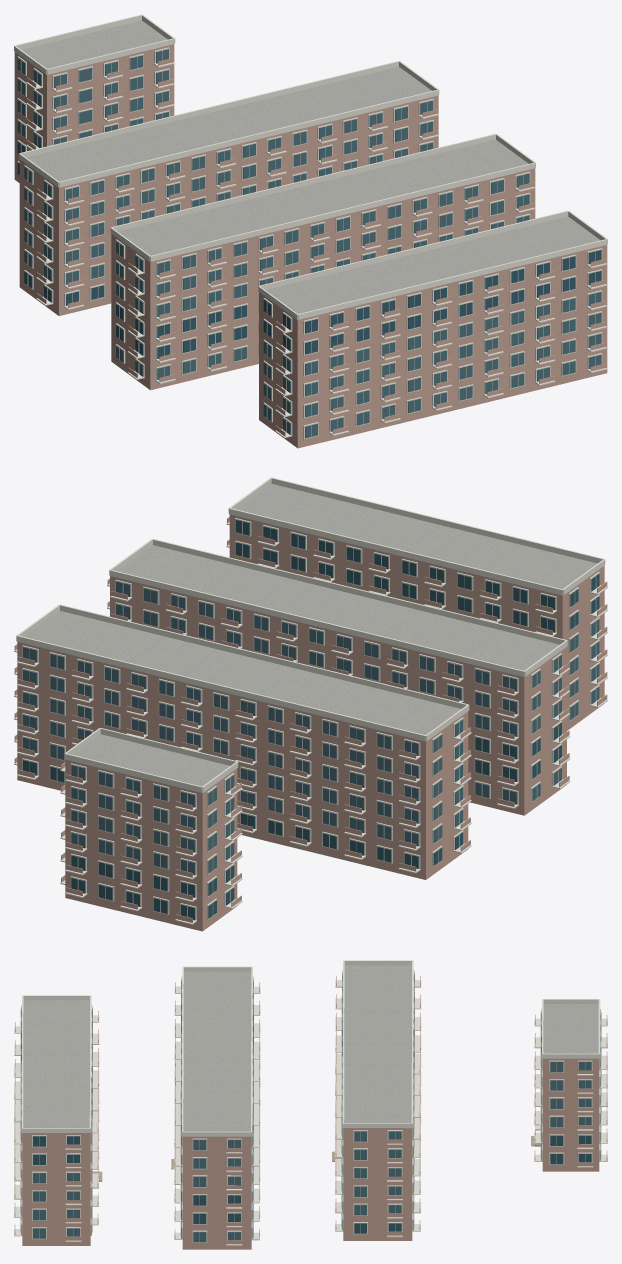
The model's file is chunk-n3-n2.glb.
The picture shows the model from 3 angles, top to bottom: view 1: azimuth 30°, elevation 25°; view 2: azimuth 150°, elevation 25°; view 3: azimuth 270°, elevation 25°; orthographic projection. The views are drawn at different scales.
Visible parts, largest first — view 1: chunk-n3-n2; view 2: chunk-n3-n2; view 3: chunk-n3-n2.
Part boxes in pixels (x1,y1,x2,y2): chunk-n3-n2: [14, 14, 607, 448]; chunk-n3-n2: [14, 477, 607, 931]; chunk-n3-n2: [14, 960, 607, 1249].
Size of the model in its own units: 66.17 by 23.89 by 96.46.
6 materials, 2 textured.
